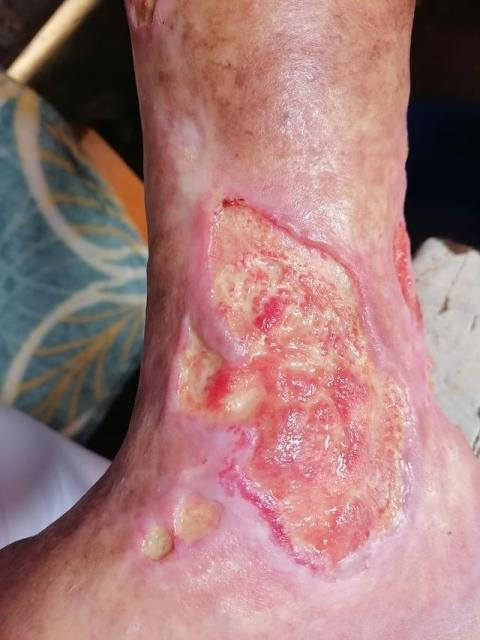wound: (166, 199, 415, 589), (387, 205, 425, 343), (178, 493, 222, 548), (169, 107, 207, 164), (143, 525, 173, 561), (131, 0, 158, 29)
